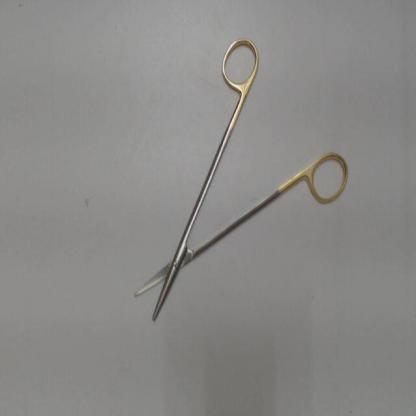7 Metzenbaum Scissors: (126, 34, 354, 328)
